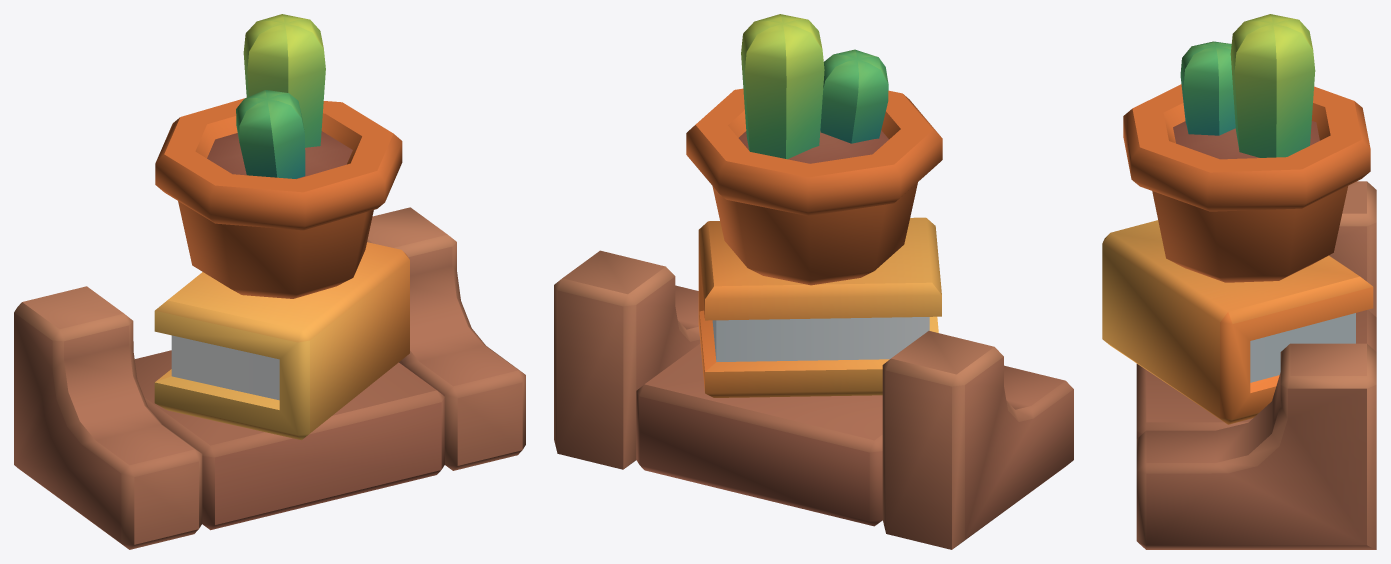
The model's file is shelf_B_small_decorated.obj.
3 renders of one model, left to right at view 1: azimuth 30°, elevation 25°; view 2: azimuth 150°, elevation 25°; view 3: azimuth 270°, elevation 25°, orthographic. The views are drawn at different scales.
Visible parts, largest first — view 1: shelf_B_small_decorated_Cube.051; view 2: shelf_B_small_decorated_Cube.051; view 3: shelf_B_small_decorated_Cube.051.
Part boxes in pixels (x1,y1,x2,y2): shelf_B_small_decorated_Cube.051: [14, 14, 525, 549]; shelf_B_small_decorated_Cube.051: [554, 14, 1073, 549]; shelf_B_small_decorated_Cube.051: [1102, 14, 1376, 549].
Size of the model in its own units: 1 by 1.01 by 0.5713.
1 material, 1 textured.
